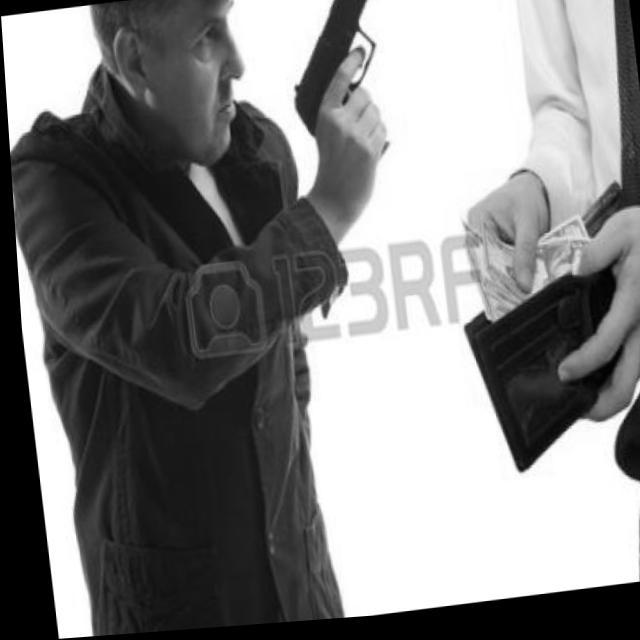weapon: (268, 0, 406, 183)
